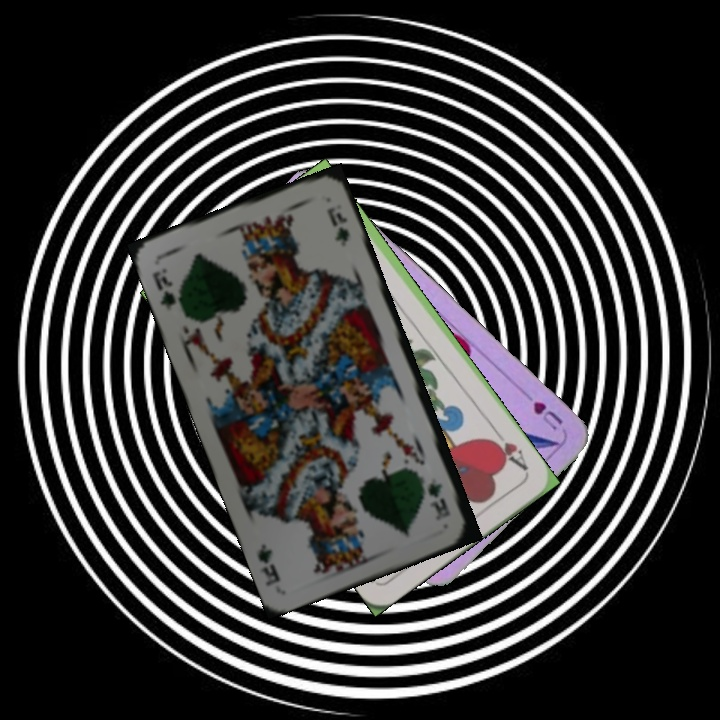GK: (148, 263, 179, 313), (424, 474, 453, 521)
HA: (485, 424, 531, 474)
HU: (529, 397, 566, 433)
